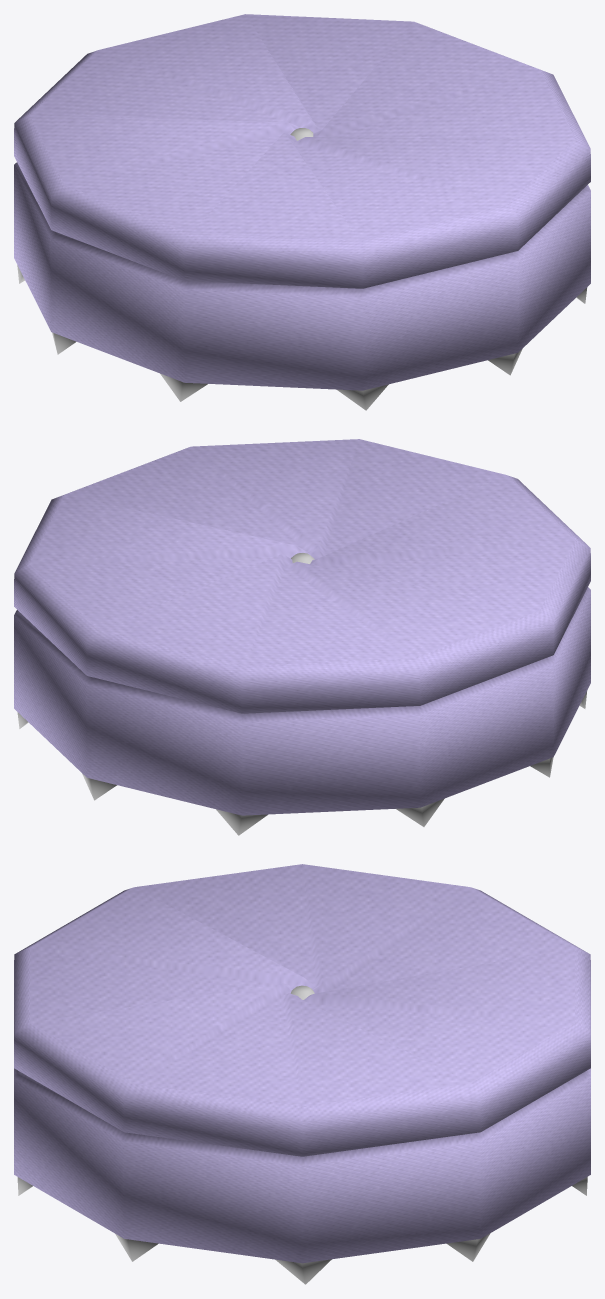
Rendered from Ottoman_B_13.FBX.
3 renders of one model, top to bottom at view 1: azimuth 30°, elevation 25°; view 2: azimuth 150°, elevation 25°; view 3: azimuth 270°, elevation 25°, orthographic. The views are drawn at different scales.
Visible parts, largest first — view 1: Ottoman_02; view 2: Ottoman_02; view 3: Ottoman_02.
Part boxes in pixels (box(x1,y1,x2,y2)): Ottoman_02: box(14, 14, 590, 410); Ottoman_02: box(14, 439, 590, 835); Ottoman_02: box(14, 864, 590, 1284).
Bounding box in the file's own units: 232 × 73.27 × 220.
